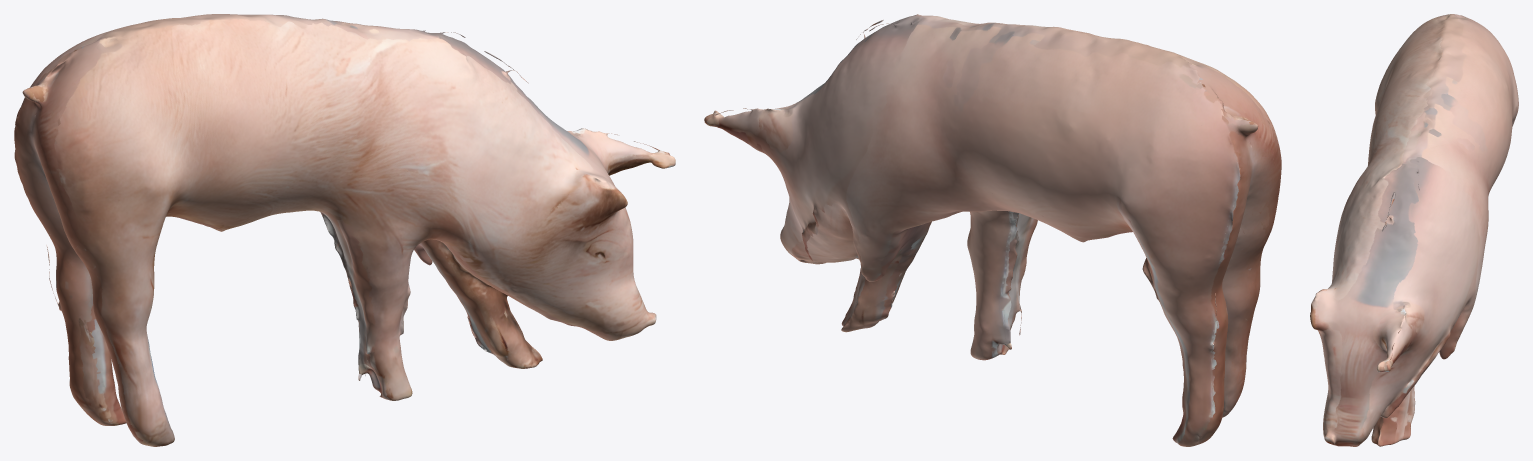
Rendered from bebe.glb.
3 views of the same model, side by side, from view 1: azimuth 30°, elevation 25°; view 2: azimuth 150°, elevation 25°; view 3: azimuth 270°, elevation 25° (orthographic). The views are drawn at different scales.
Parts seen in each view (by area): view 1: mesh; view 2: mesh; view 3: mesh.
Part boxes in pixels (bbox=[...]): mesh: bbox=[14, 14, 675, 446]; mesh: bbox=[704, 14, 1281, 446]; mesh: bbox=[1310, 14, 1518, 446].
Bounding box in the file's own units: 1.78 × 1.1 × 0.7132.
Materials: 1 (1 with a texture image).
